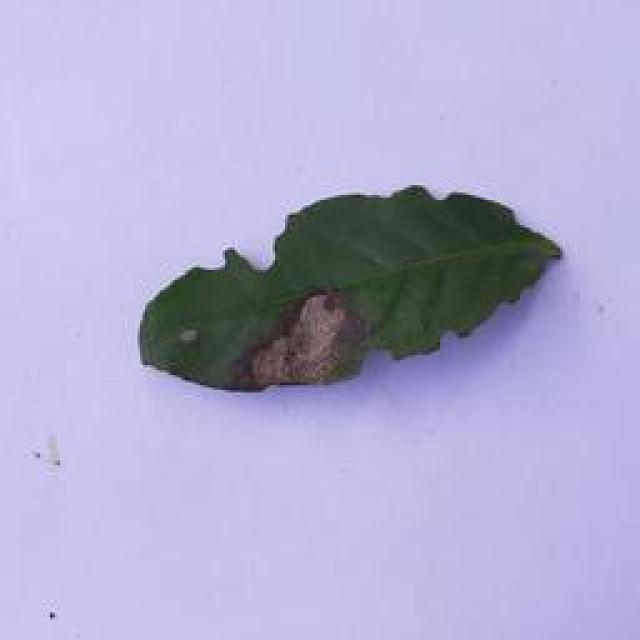Gray Blight: (130, 185, 570, 402)
